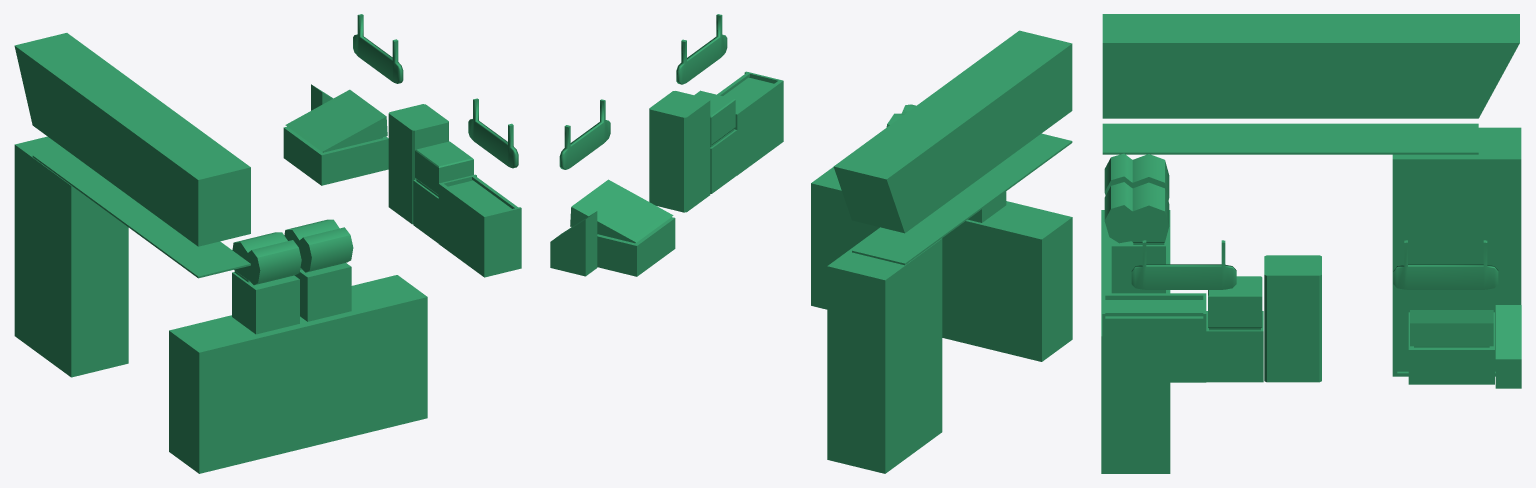
Rendered from getYoCoffee.fbx.
3 renders of one model, left to right at view 1: azimuth 30°, elevation 25°; view 2: azimuth 150°, elevation 25°; view 3: azimuth 270°, elevation 25°, orthographic. The views are drawn at different scales.
Parts seen in each view (by area): view 1: surface, cabinet, fridge, cupwrapper, cashier, coffeething, shelf, coffeething3, coffeething2, signs; view 2: cabinet, fridge, surface, coffeething3, cashier, shelf, coffeething, signs, coffeething2, cupholder, cupwrapper; view 3: cabinet, fridge, shelf, coffeething, surface, coffeething3, cupwrapper, cashier, signs, coffeething2, cupholder.
Boxes of the visible parts, x1=… form: surface: x1=169, y1=275, x2=427, y2=473; cabinet: x1=14, y1=33, x2=250, y2=246; fridge: x1=14, y1=136, x2=128, y2=377; cupwrapper: x1=232, y1=219, x2=353, y2=334; cashier: x1=283, y1=89, x2=388, y2=185; coffeething: x1=438, y1=174, x2=521, y2=277; shelf: x1=32, y1=148, x2=250, y2=278; coffeething3: x1=388, y1=104, x2=448, y2=224; coffeething2: x1=413, y1=141, x2=473, y2=243; signs: x1=353, y1=14, x2=518, y2=168; cabinet: x1=833, y1=30, x2=1072, y2=233; fridge: x1=827, y1=227, x2=942, y2=473; surface: x1=811, y1=167, x2=1072, y2=361; coffeething3: x1=649, y1=91, x2=710, y2=212; cashier: x1=570, y1=179, x2=675, y2=276; shelf: x1=852, y1=133, x2=1072, y2=265; coffeething: x1=717, y1=71, x2=783, y2=175; signs: x1=559, y1=14, x2=727, y2=169; coffeething2: x1=694, y1=90, x2=737, y2=193; cupholder: x1=550, y1=211, x2=597, y2=276; cupwrapper: x1=886, y1=104, x2=1006, y2=222; cabinet: x1=1102, y1=14, x2=1519, y2=118; fridge: x1=1392, y1=127, x2=1521, y2=376; shelf: x1=1102, y1=123, x2=1478, y2=154; coffeething: x1=1102, y1=293, x2=1206, y2=382; surface: x1=1101, y1=210, x2=1170, y2=473; coffeething3: x1=1264, y1=255, x2=1321, y2=382; cupwrapper: x1=1104, y1=153, x2=1169, y2=293; cashier: x1=1408, y1=310, x2=1494, y2=384; signs: x1=1131, y1=240, x2=1498, y2=289; coffeething2: x1=1206, y1=276, x2=1263, y2=382; cupholder: x1=1495, y1=305, x2=1521, y2=388.
Size of the model in its own units: 327 by 275 by 315.
